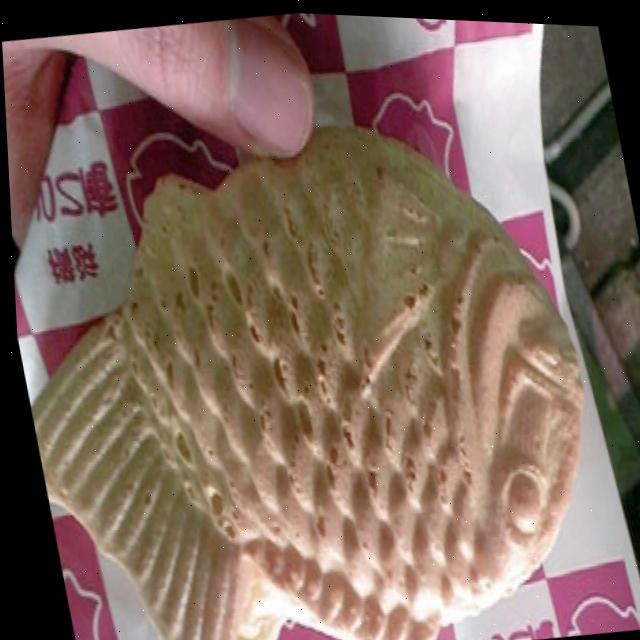熟制海鲜: (3, 73, 640, 640)
